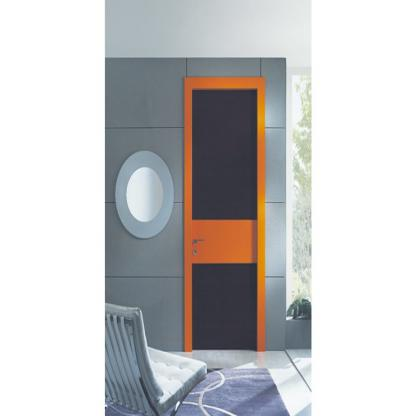door: (191, 88, 255, 348)
